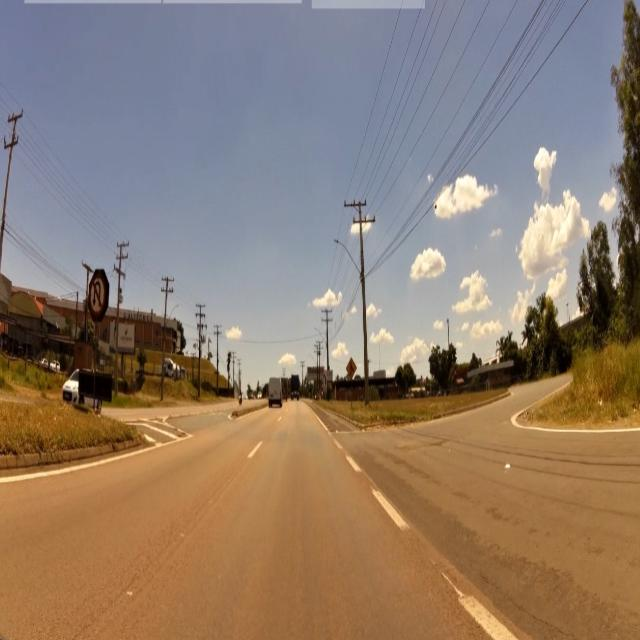R-5a: (90, 276, 105, 317)
